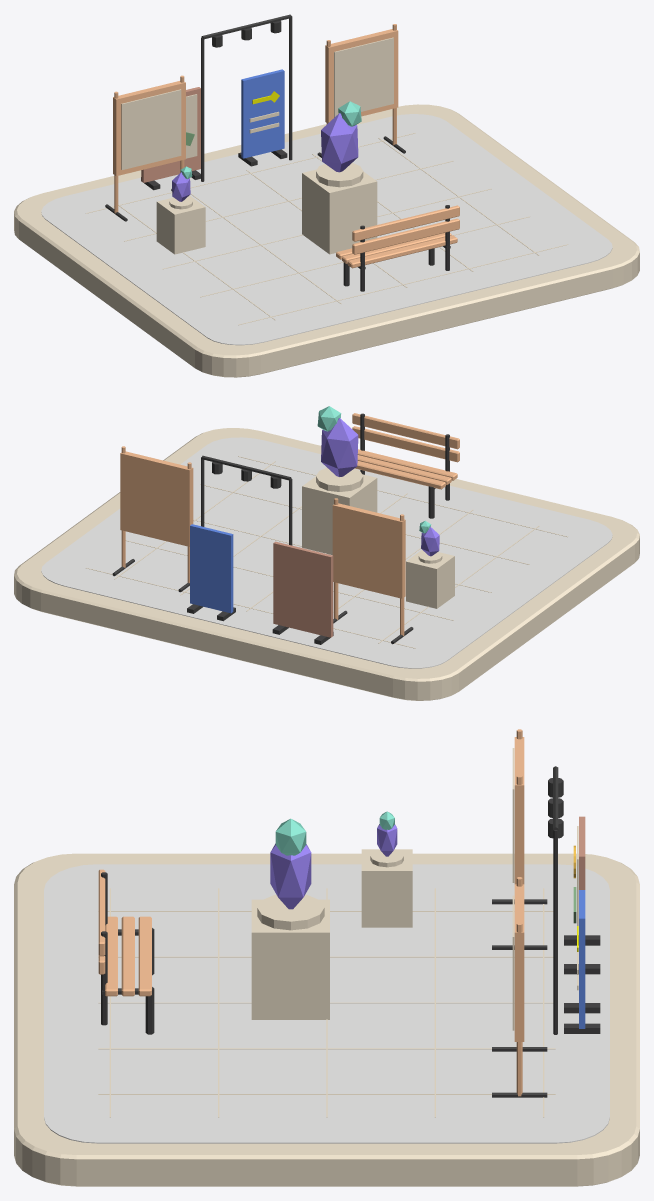
File: room.fbx
The picture shows the model from 3 angles, top to bottom: view 1: azimuth 30°, elevation 25°; view 2: azimuth 150°, elevation 25°; view 3: azimuth 270°, elevation 25°; orthographic projection. The views are drawn at different scales.
Parts seen in each view (by area): view 1: COM-02 Floor Surface, COM-01 Rounded Base Direct, Display plinth, Art surface, Art surface.001, Panel.001, Display plinth.001, Frame, Frame.001, Sculpture, Back slat, Back slat.001 (+7 smaller); view 2: COM-02 Floor Surface, COM-01 Rounded Base Direct, Frame, Frame.001, Panel, Panel.001, Display plinth, Display plinth.001, Sculpture, Back slat.001, Back slat, Plinth (+5 smaller); view 3: COM-02 Floor Surface, COM-01 Rounded Base Direct, Display plinth, Display plinth.001, Sculpture, Plinth, Frame.001, Frame, Seat slat, Seat slat.001, Pole.001, Panel.001 (+6 smaller).
Boxes of the visible parts, left/top/right/bottom form: COM-02 Floor Surface: left=41, top=114, right=612, bottom=345; COM-01 Rounded Base Direct: left=14, top=104, right=639, bottom=377; Display plinth: left=302, top=169, right=377, bottom=254; Art surface: left=121, top=89, right=181, bottom=169; Art surface.001: left=334, top=37, right=393, bottom=117; Panel.001: left=241, top=69, right=284, bottom=158; Display plinth.001: left=156, top=195, right=205, bottom=254; Frame: left=113, top=81, right=185, bottom=176; Frame.001: left=325, top=29, right=398, bottom=123; Sculpture: left=321, top=113, right=358, bottom=172; Back slat: left=352, top=218, right=459, bottom=254; Back slat.001: left=352, top=205, right=459, bottom=241; COM-02 Floor Surface: left=41, top=437, right=612, bottom=668; COM-01 Rounded Base Direct: left=14, top=428, right=639, bottom=700; Frame: left=332, top=503, right=405, bottom=598; Frame.001: left=120, top=451, right=193, bottom=546; Panel: left=273, top=541, right=333, bottom=637; Panel.001: left=190, top=524, right=233, bottom=613; Display plinth: left=302, top=474, right=377, bottom=554; Display plinth.001: left=406, top=550, right=454, bottom=608; Sculpture: left=321, top=418, right=358, bottom=476; Back slat.001: left=352, top=413, right=459, bottom=449; Back slat: left=352, top=426, right=459, bottom=462; Plinth: left=316, top=468, right=363, bottom=491; COM-02 Floor Surface: left=44, top=864, right=609, bottom=1143; COM-01 Rounded Base Direct: left=14, top=853, right=639, bottom=1186; Display plinth: left=251, top=899, right=329, bottom=1019; Display plinth.001: left=361, top=849, right=412, bottom=927; Sculpture: left=270, top=843, right=311, bottom=909; Plinth: left=257, top=895, right=324, bottom=930; Frame.001: left=514, top=884, right=524, bottom=1041; Frame: left=514, top=737, right=524, bottom=884; Seat slat: left=138, top=916, right=151, bottom=996; Seat slat.001: left=121, top=916, right=134, bottom=996; Pole.001: left=553, top=830, right=557, bottom=1034; Panel.001: left=579, top=890, right=585, bottom=1028.
Bounding box in the file's own units: 600 × 219 × 520.
